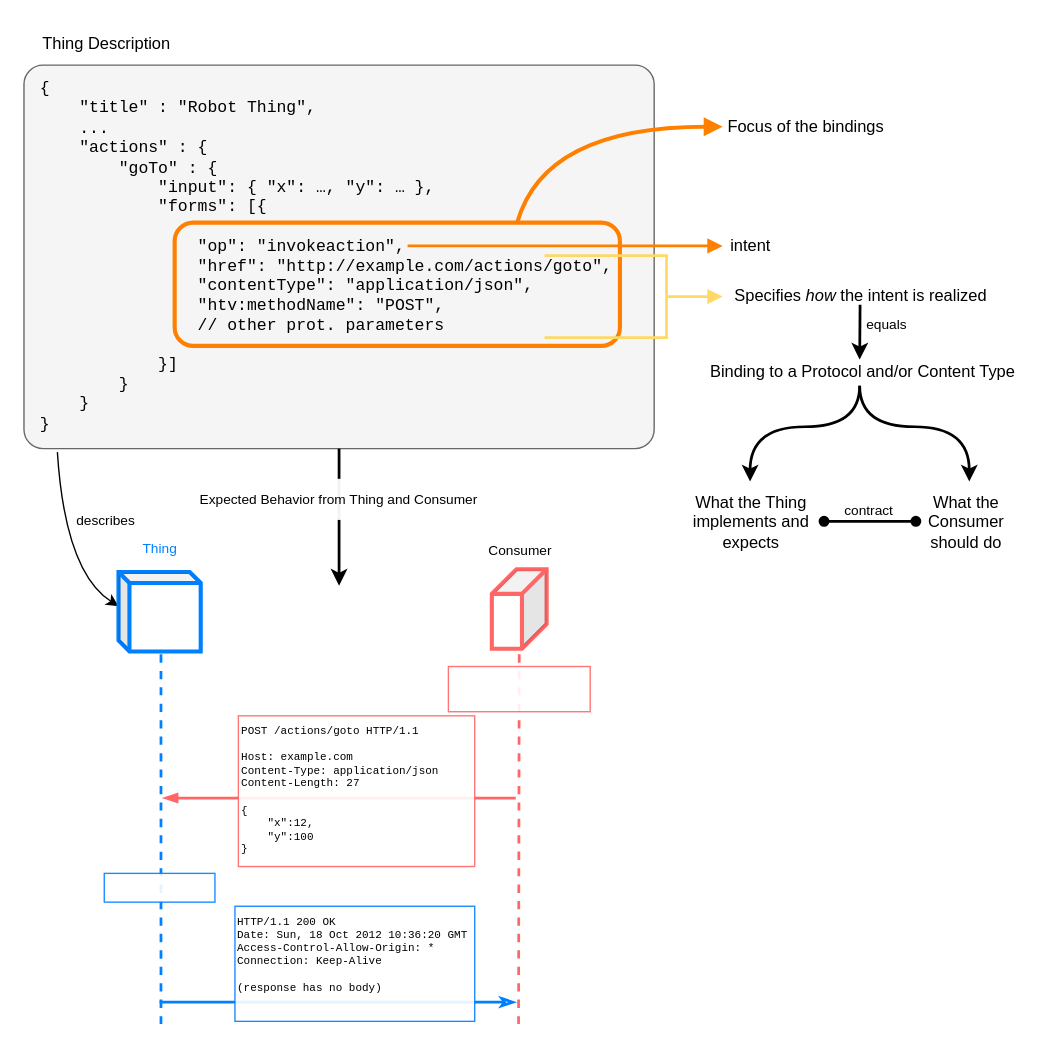
The diagram is 1060 pixels wide and 1049 high, and some of its shapes have lost their labels. Each missing label, with the centre of its shape:
"Decide to move robot to a position" belongs at [518,688].
"Execute movement" belongs at [159,887].
